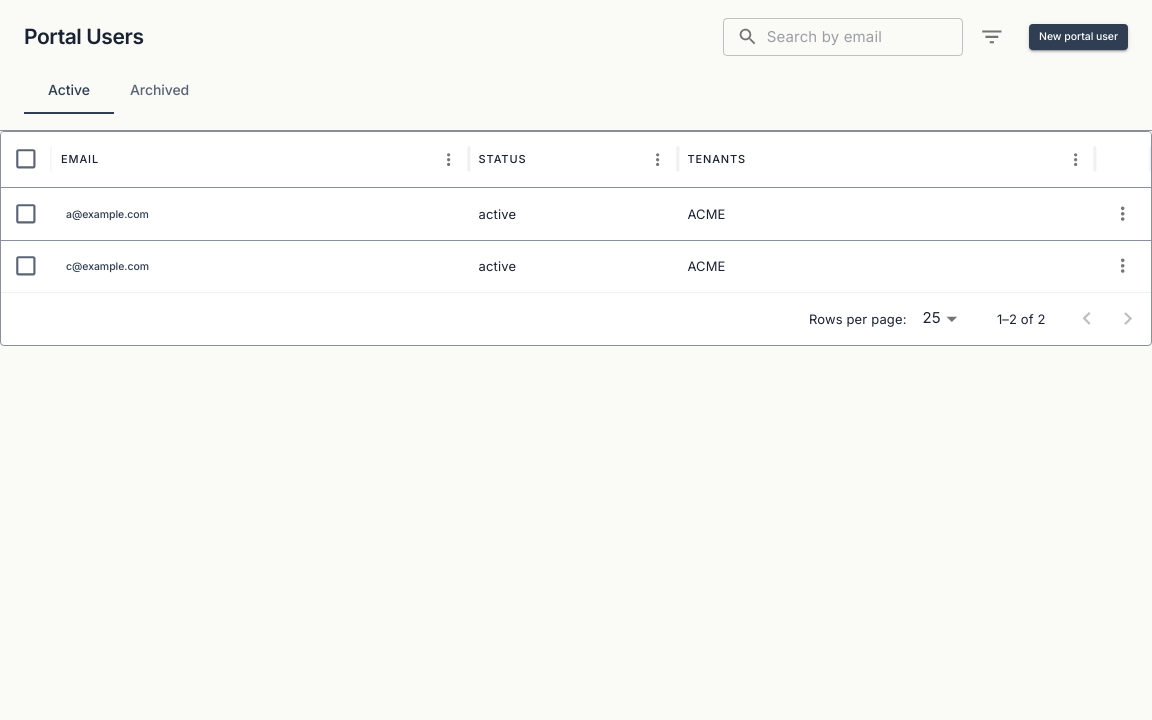
Test: PortalUsersPage › archives the selected users in one request from the header (I0002-R014, R019)
The width and height of the screenshot is (1152, 720).
Expected: the button "c@example.com" is shown, [61,254,154,280]
Click the checkbox named "select row". click: (26, 214)
box: [13,201,39,227]
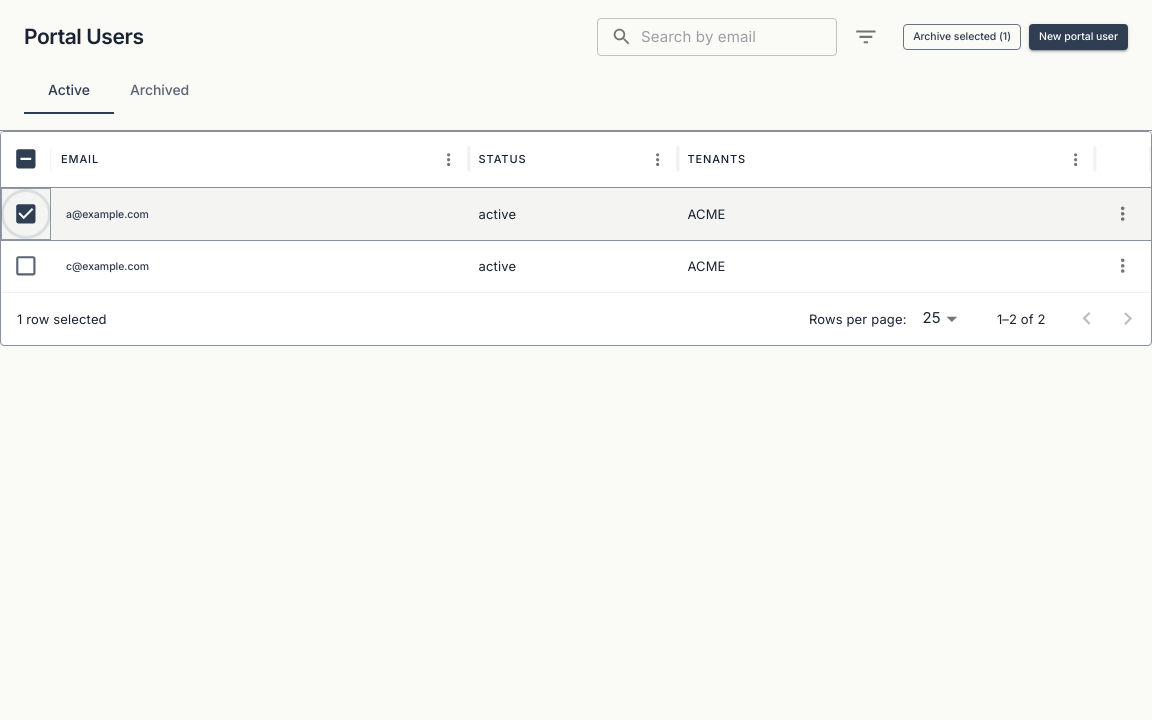
Click the checkbox named "select row". click: (26, 266)
box: [13,253,39,279]
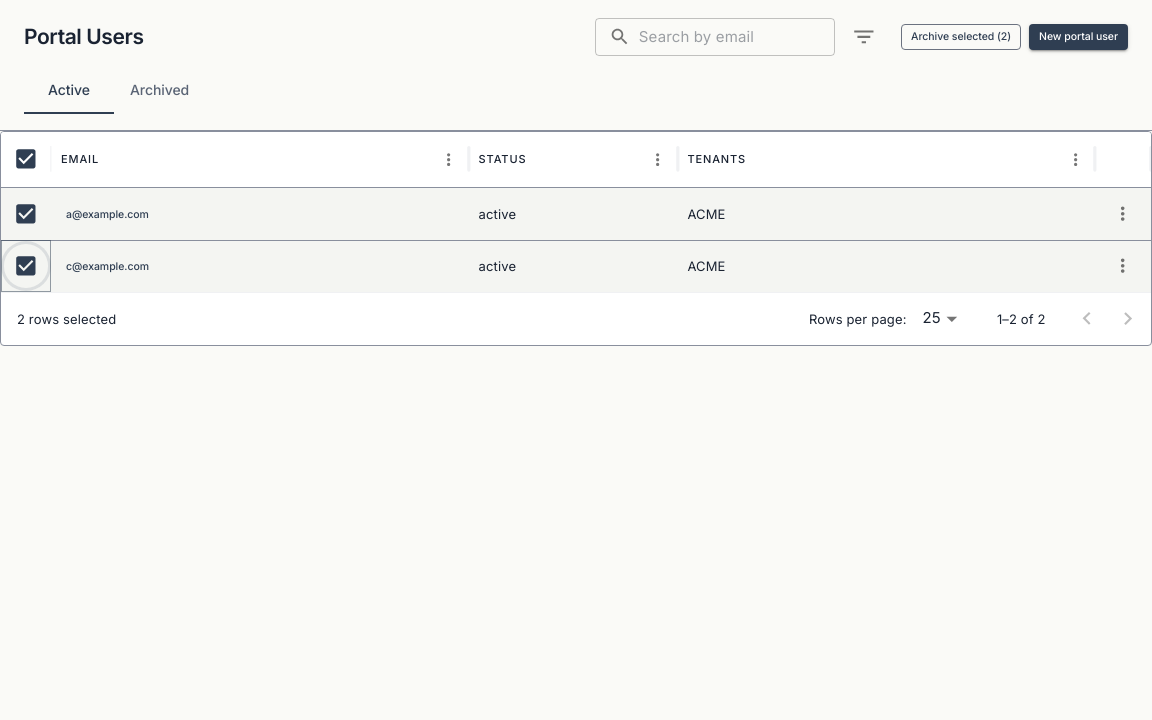
Click the button "Archive selected (2)". click: (961, 37)
box: [901,24,1021,50]
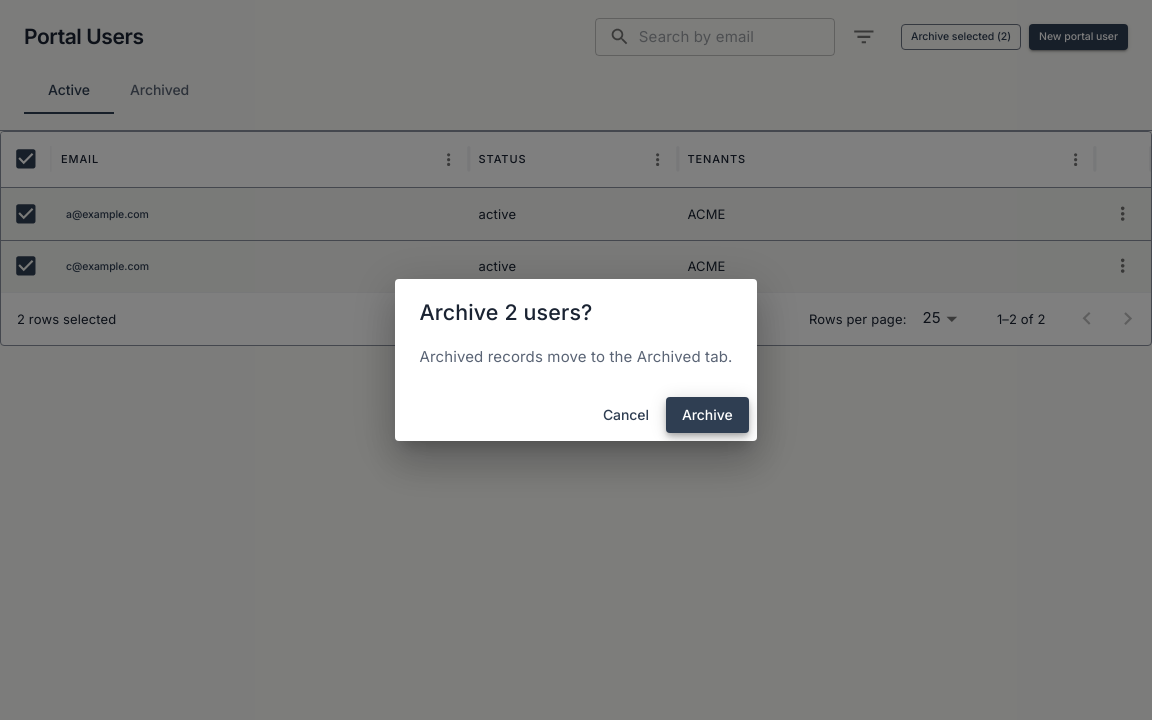
Now the text "Archived records move to the Archived tab." is shown, box [419,345,732,369]
Click the button "Archive". click: (707, 415)
box: [666,396,748,433]
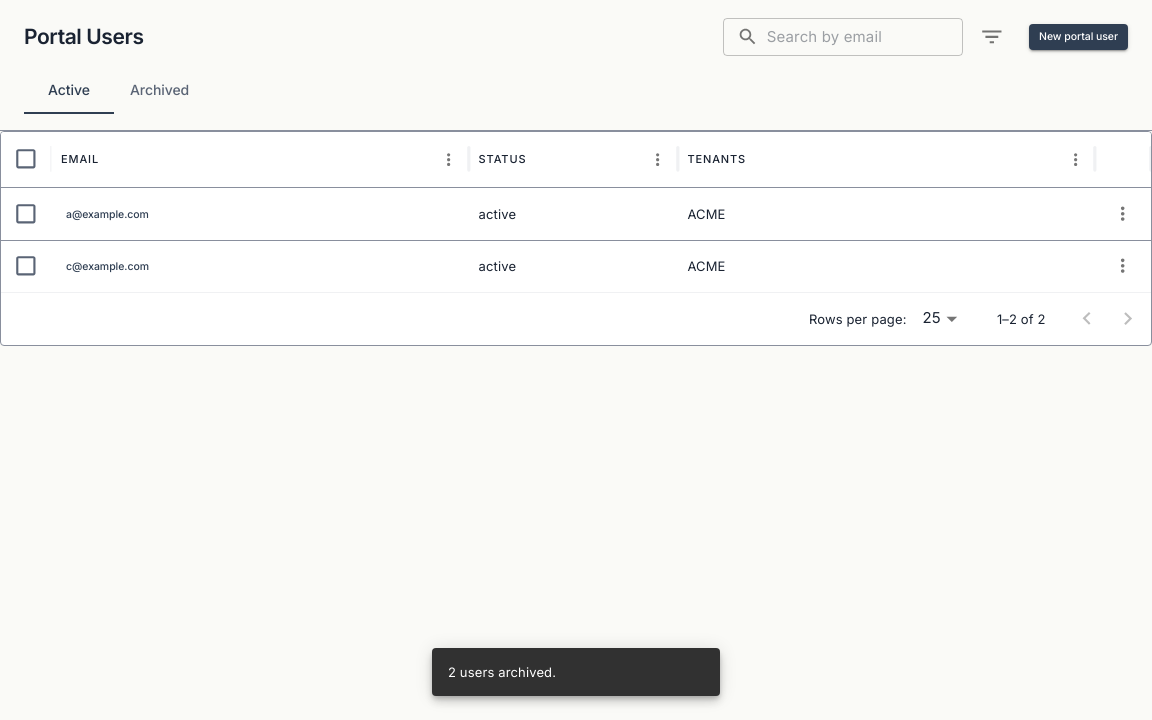
Now the text "2 users archived." is shown, box [448,664,556,680]
